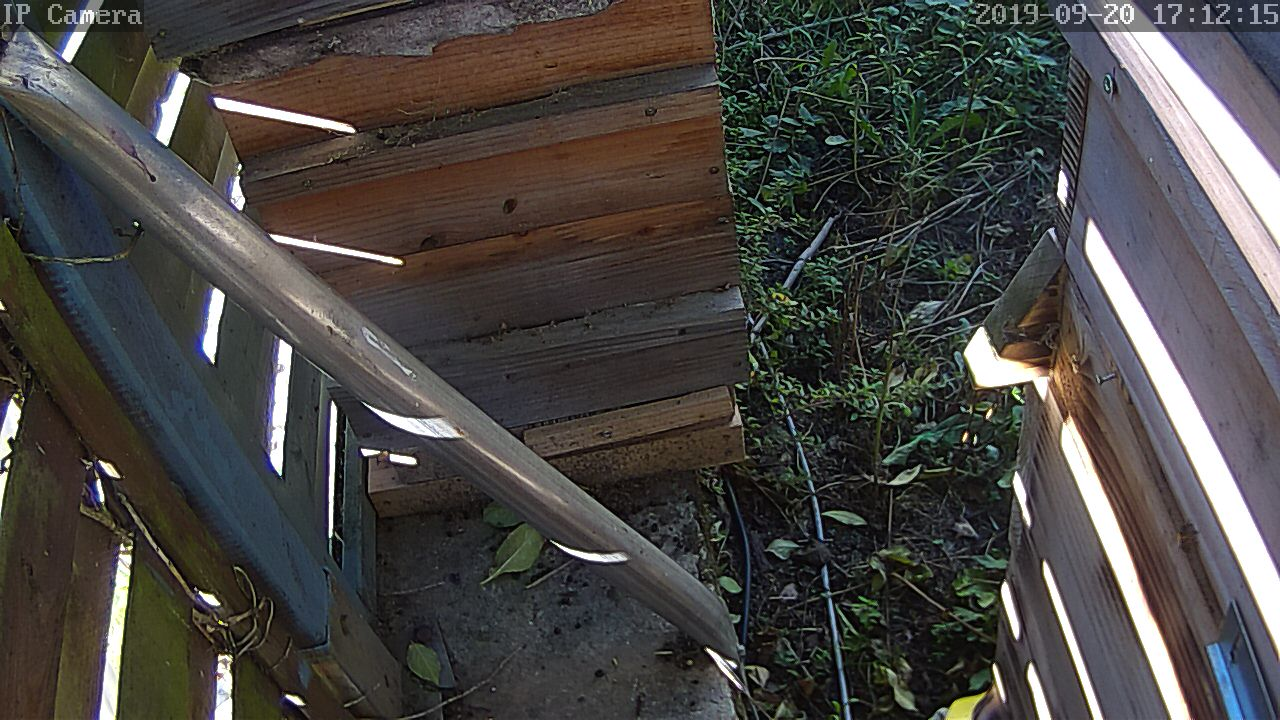hornet: (74, 0, 1245, 720), (510, 9, 1247, 631)
